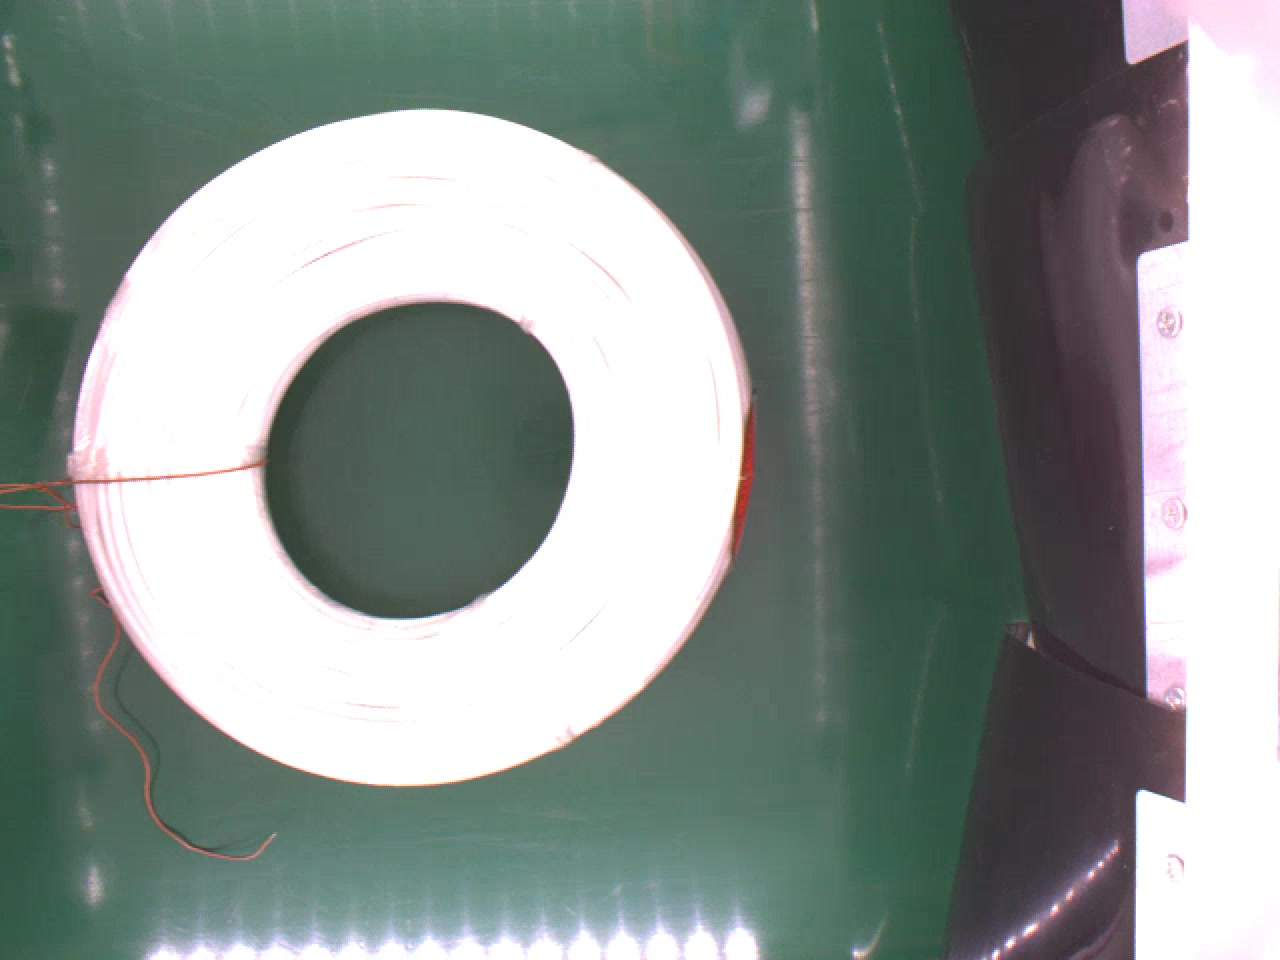white: (62, 108, 759, 788)
